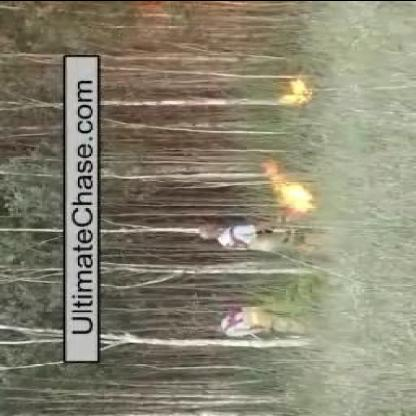foggia-v2-map80-epoch100 - v1 4323: (282, 182, 314, 209), (280, 78, 312, 104)
